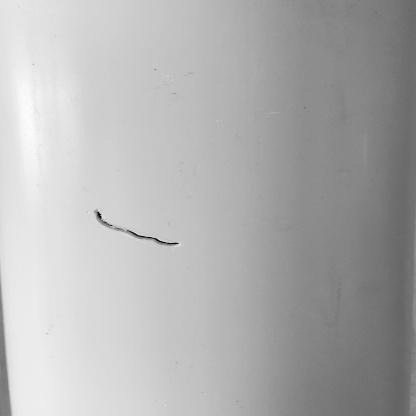fengxi: (90, 203, 189, 249)
